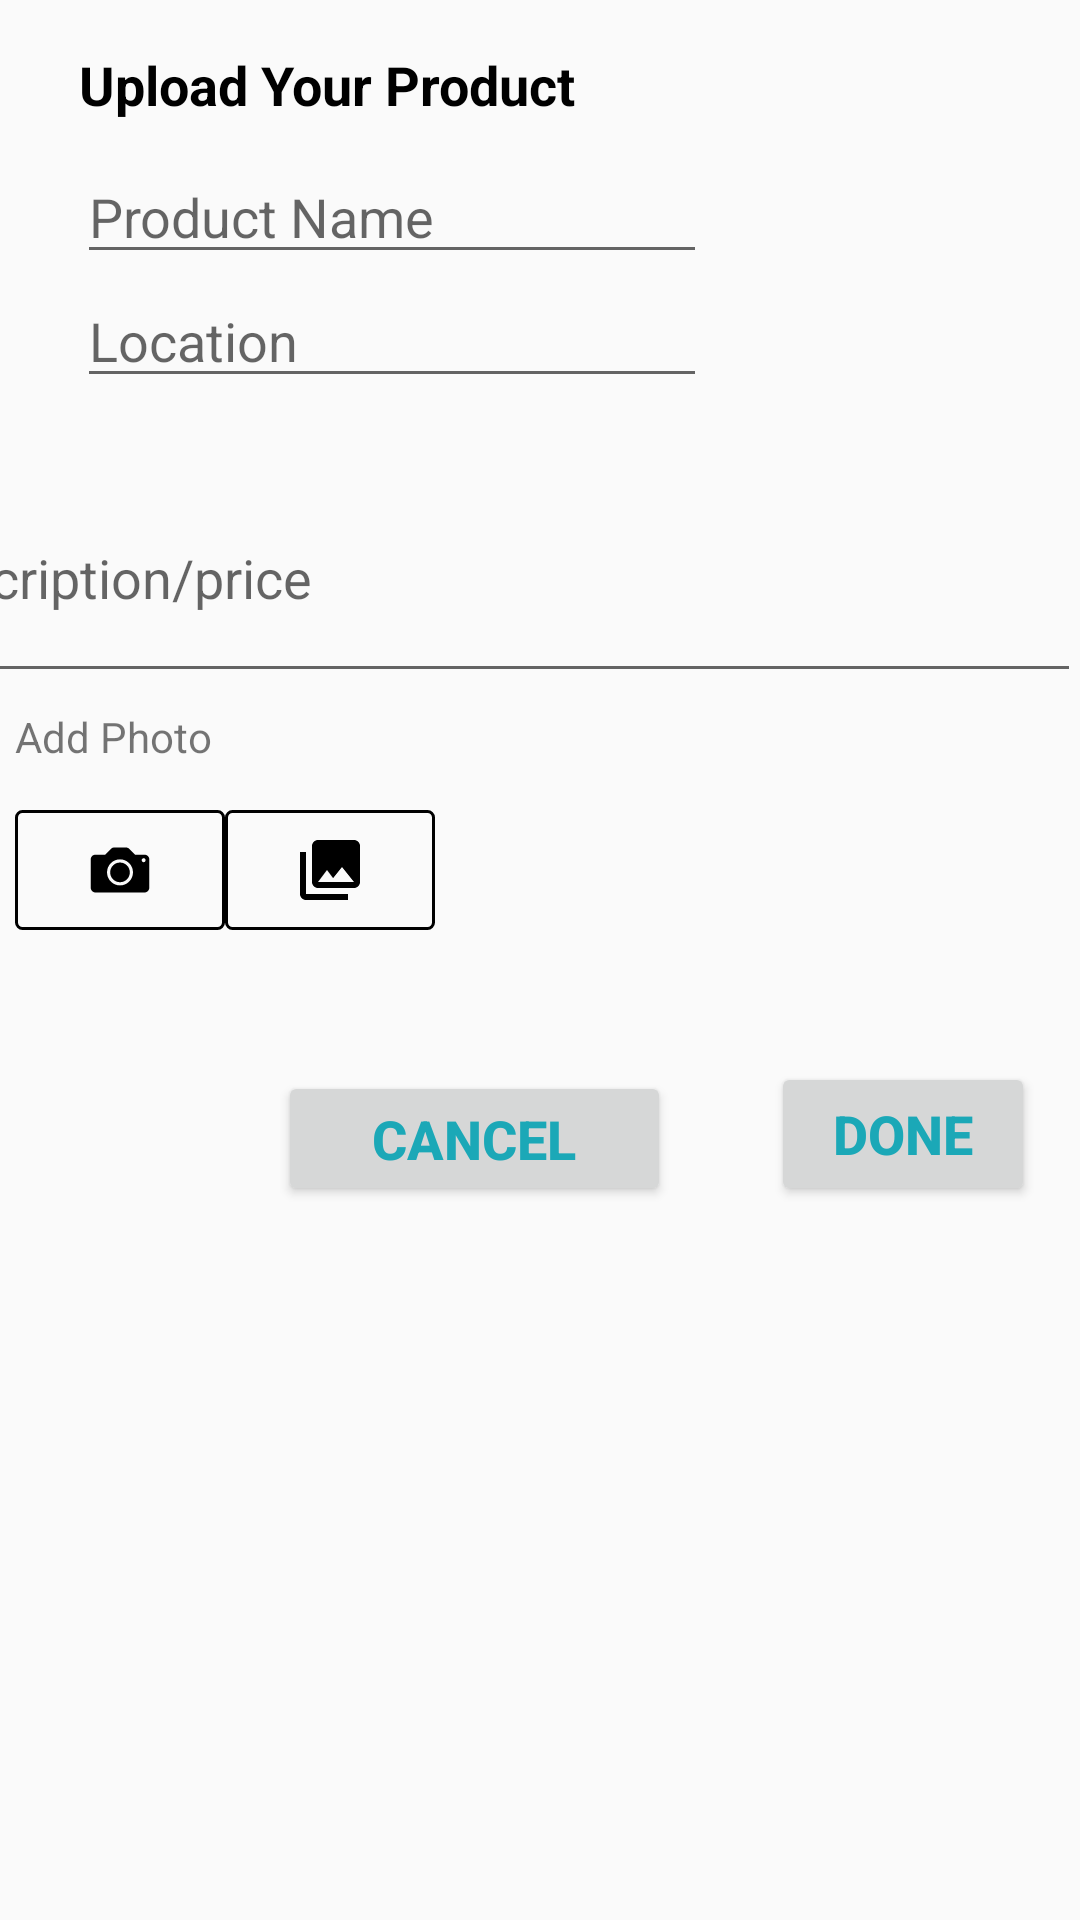

Where to tap for icons on this 1080×1920 app screen, as [x,y]:
camera: [120,870]
photo library: [330,870]
